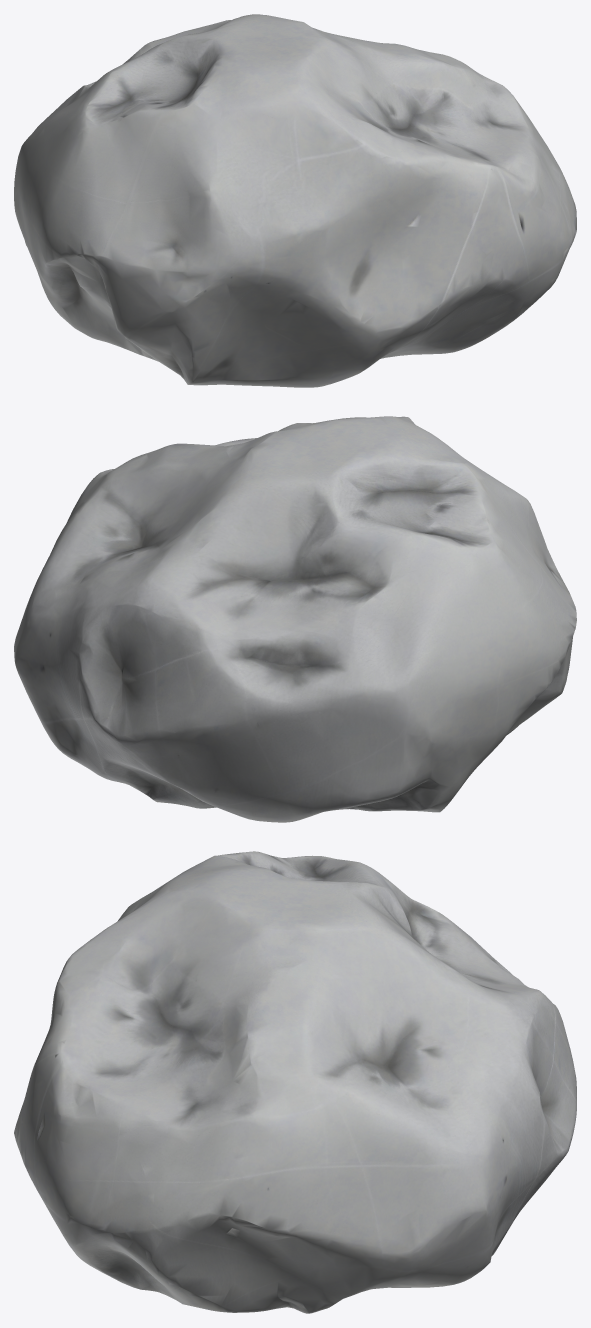
Rendered from stone_02.glb.
3 renders of one model, top to bottom at view 1: azimuth 30°, elevation 25°; view 2: azimuth 150°, elevation 25°; view 3: azimuth 270°, elevation 25°, orthographic. The views are drawn at different scales.
Size of the model in its own units: 2 by 1.19 by 1.85.
1 material, 1 textured.
